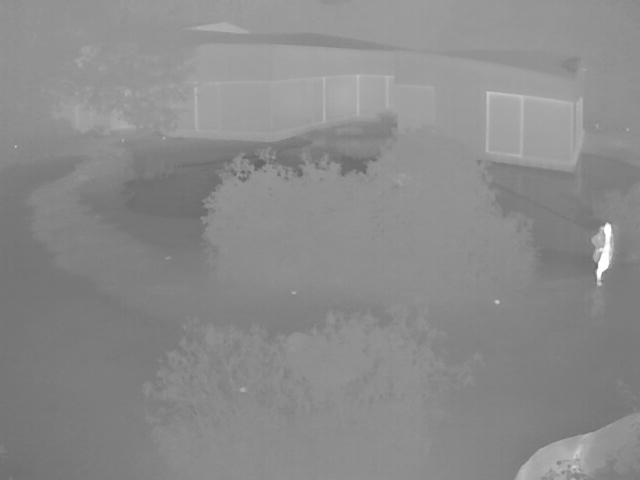person: (592, 221, 620, 286)
